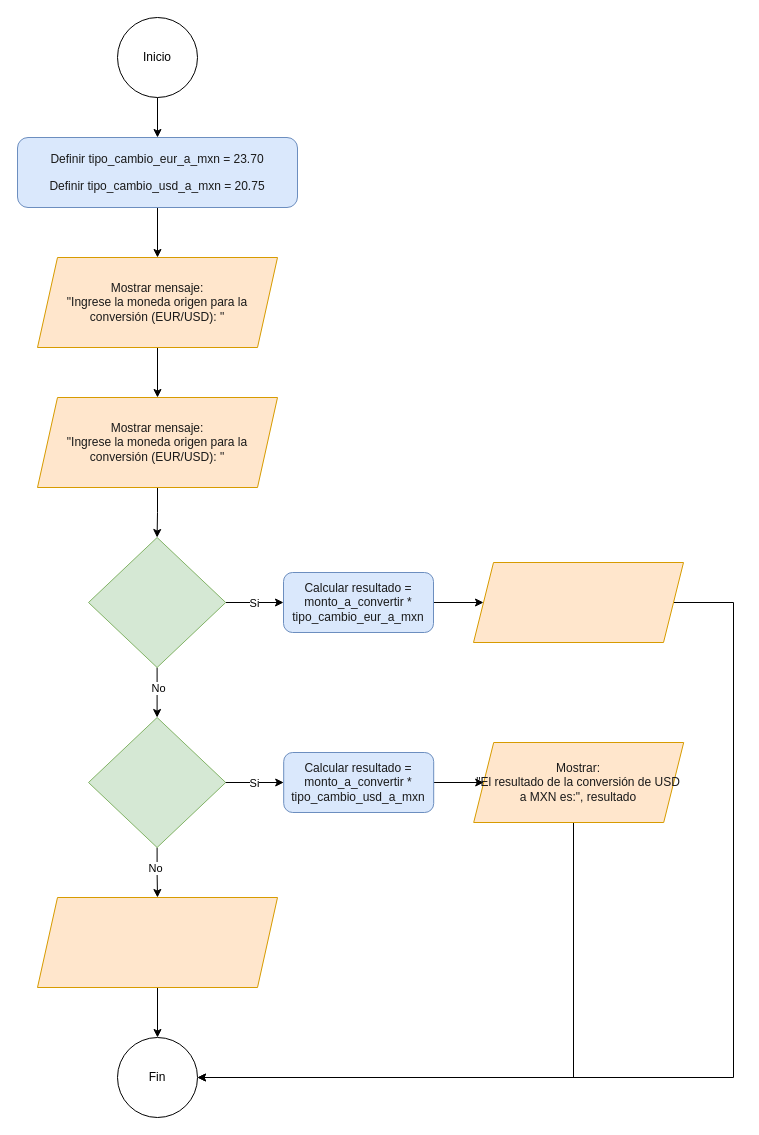
Image size: 759x1135. Some labels were removed from this diagram. Each missing label, with the box of its shape:
Mostrar: "El resultado de la con versión de EUR a MXN es:", resultado: (472, 562, 684, 642)
Mostrar: "No está disponible este ti po de conversión actualmente": (36, 896, 278, 988)
Si tipo_conversion == "EUR": (88, 536, 226, 668)
Si tipo_conversion == "USD": (88, 716, 226, 848)
